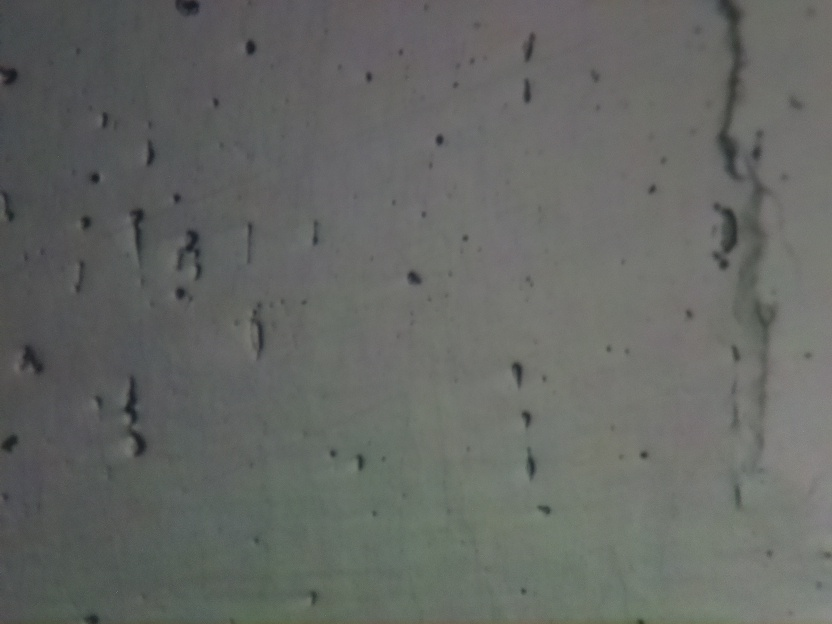crack: (721, 0, 749, 169)
